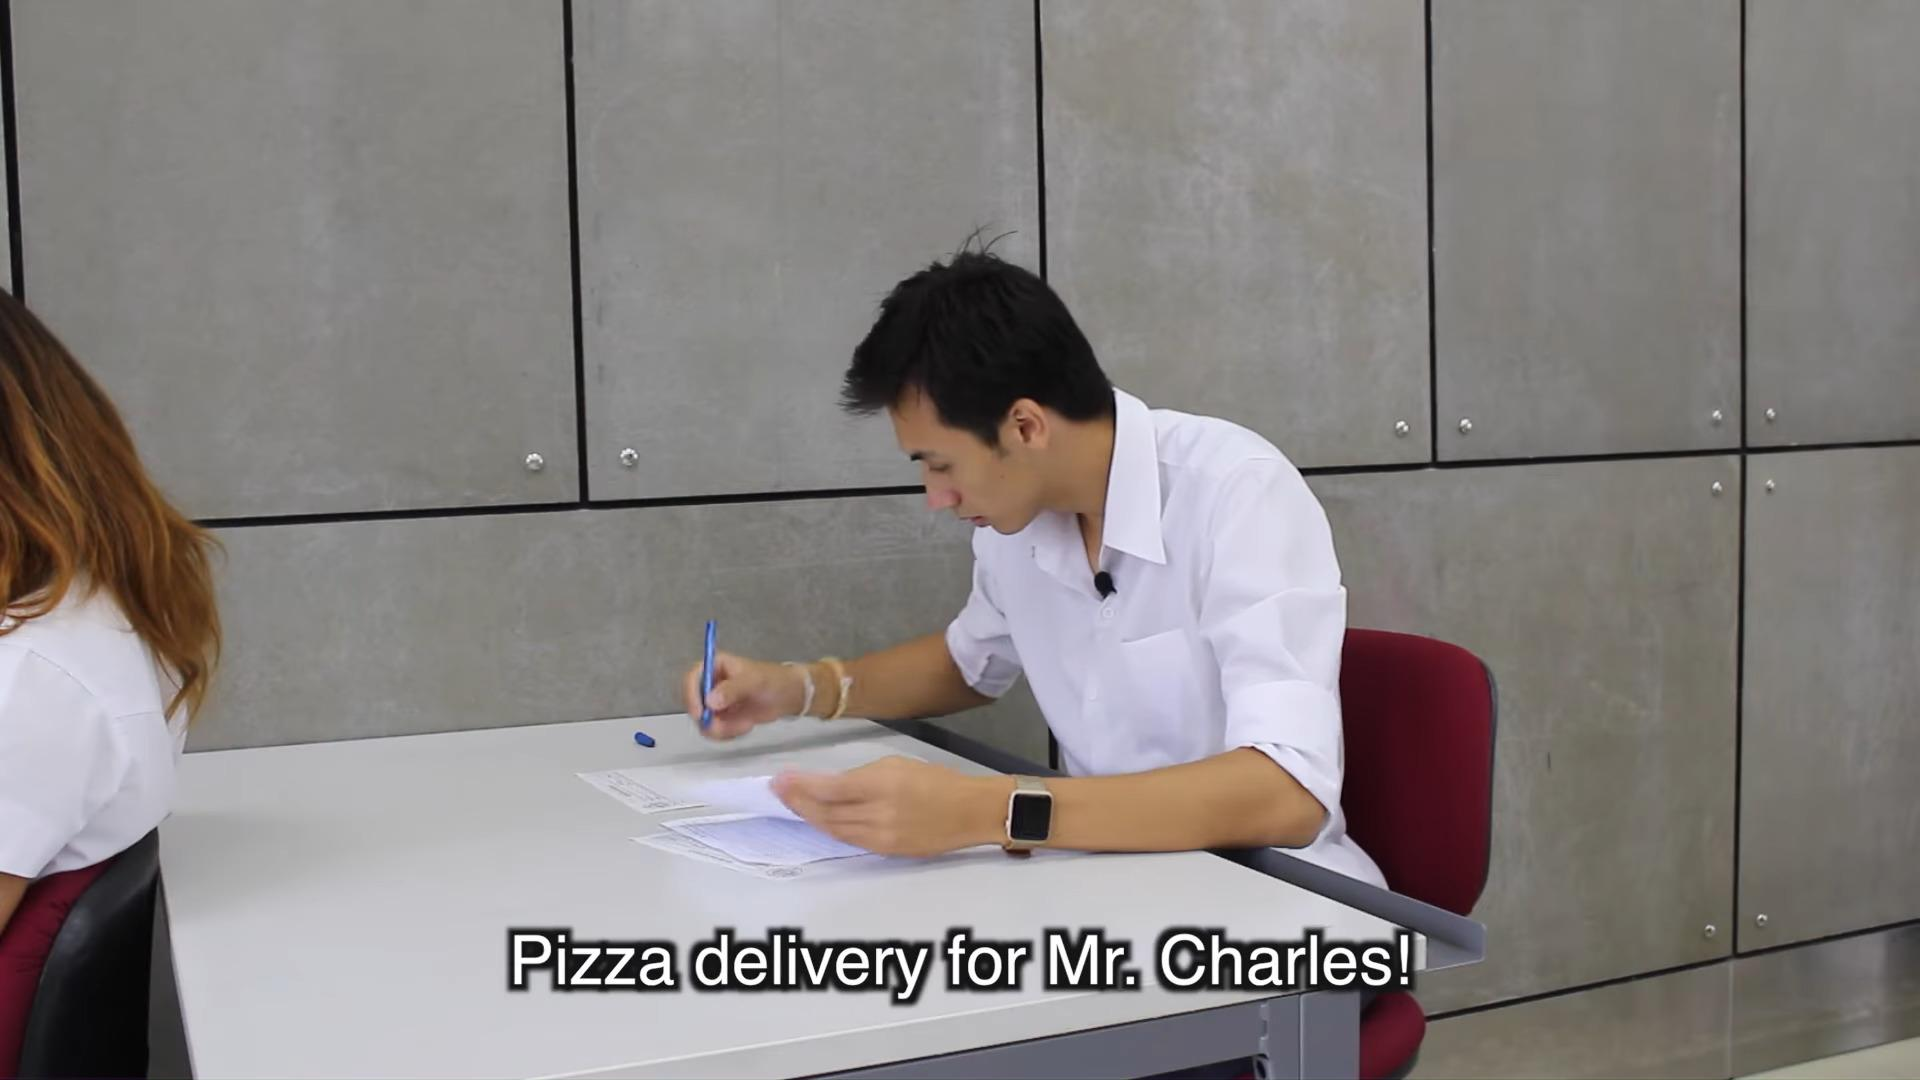good: (568, 223, 1389, 895)
